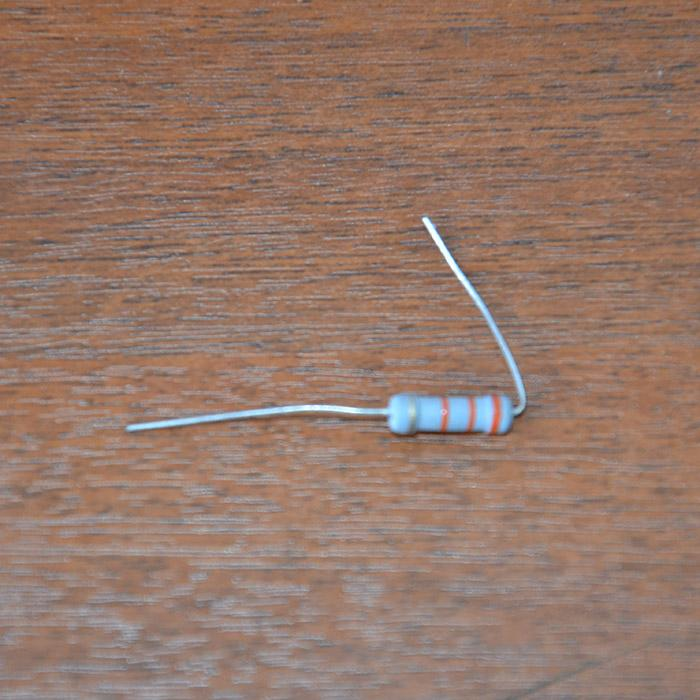resistor: (385, 390, 518, 437)
